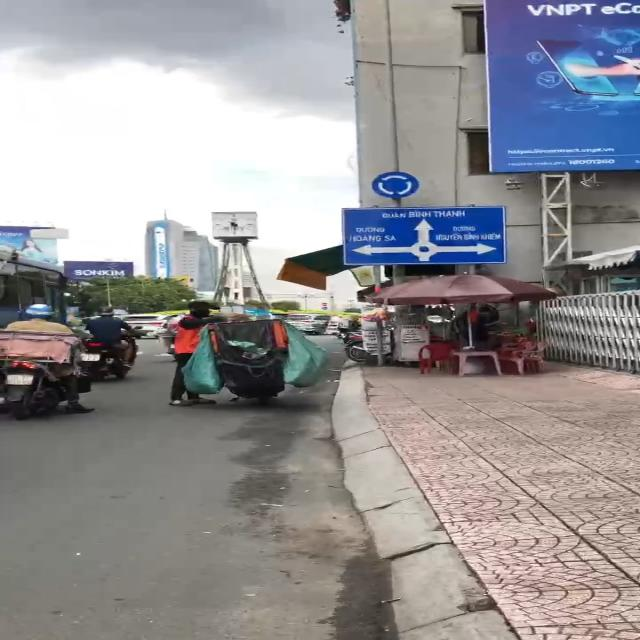Bien bao noi giao nhau chay theo vong xuyen: (371, 169, 426, 201)
